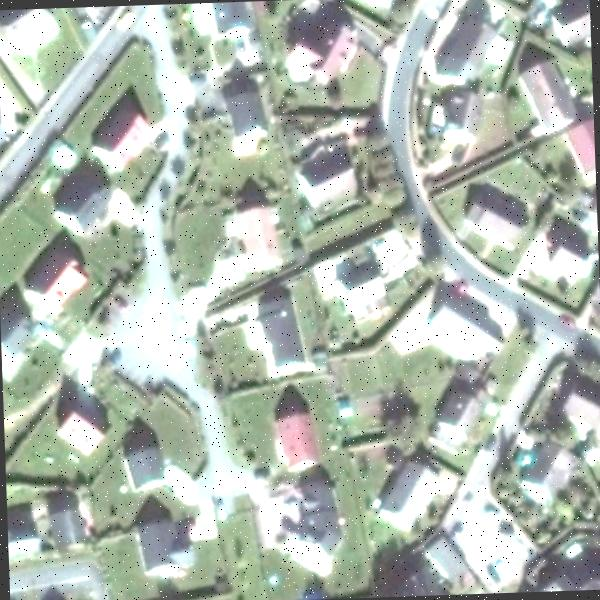Buildings: (291, 16, 358, 82), (516, 53, 572, 131), (2, 8, 60, 63), (522, 442, 575, 502), (436, 18, 488, 76), (386, 464, 430, 532), (430, 388, 476, 453), (302, 150, 356, 202), (141, 528, 191, 584), (472, 194, 525, 246), (340, 266, 388, 322), (56, 406, 105, 455), (29, 251, 80, 298), (295, 504, 337, 559), (546, 1, 592, 50), (58, 178, 108, 222), (265, 294, 296, 360), (573, 378, 600, 453), (238, 209, 274, 260), (99, 112, 138, 157), (282, 418, 317, 468), (441, 94, 482, 134), (556, 229, 590, 272), (228, 100, 264, 140), (213, 2, 251, 36), (576, 118, 596, 180), (126, 452, 162, 484), (1, 320, 27, 364), (48, 512, 80, 546)
